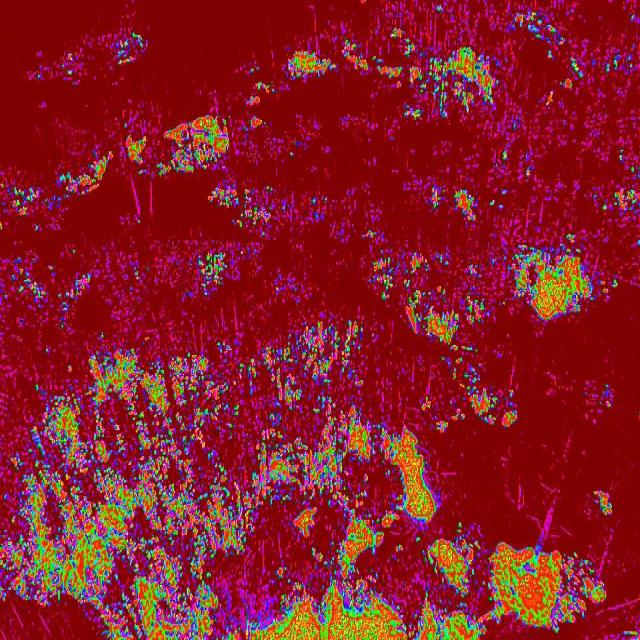fire: (0, 234, 448, 640), (449, 527, 605, 640), (343, 26, 498, 119), (511, 11, 640, 83), (508, 223, 602, 318), (0, 152, 112, 219), (126, 111, 236, 178), (206, 180, 326, 230), (454, 355, 519, 433), (278, 46, 341, 92), (447, 290, 489, 356), (110, 26, 152, 66), (602, 187, 640, 223), (454, 184, 478, 224), (587, 489, 616, 520), (428, 182, 448, 212)
